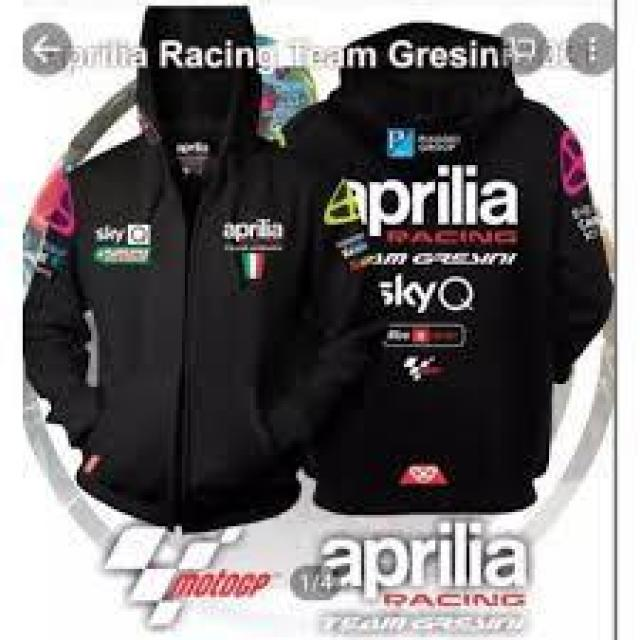sweater: (20, 8, 353, 520), (296, 28, 611, 515)
